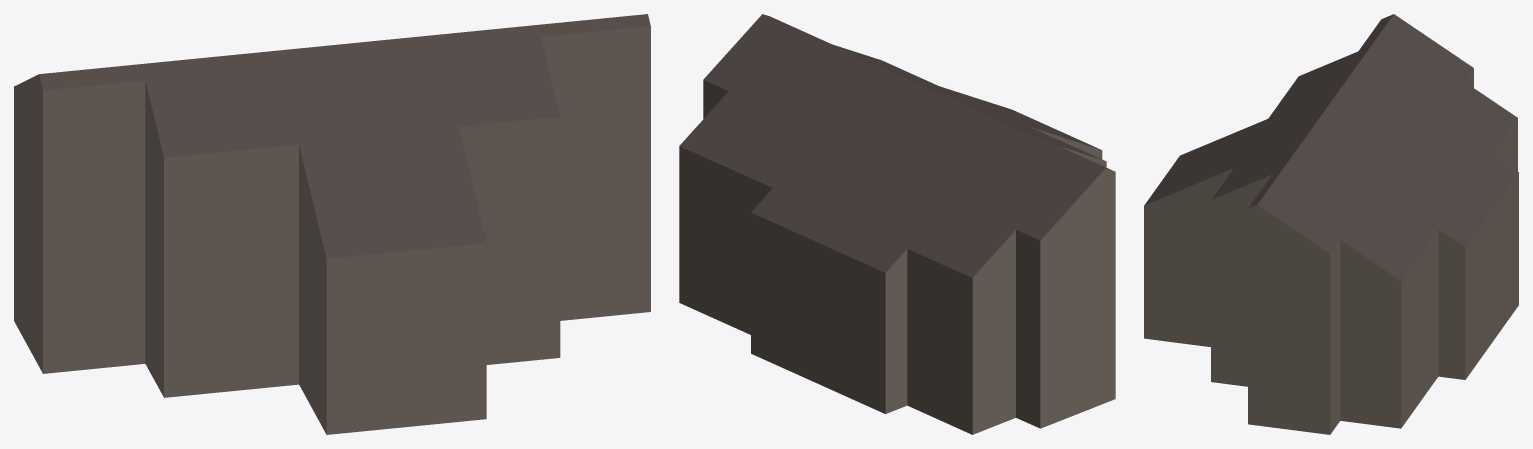
3 renders of one model, left to right at view 1: azimuth 30°, elevation 25°; view 2: azimuth 150°, elevation 25°; view 3: azimuth 270°, elevation 25°, orthographic. The views are drawn at different scales.
Parts seen in each view (by area): view 1: HP-w859488888; view 2: HP-w859488888; view 3: HP-w859488888.
Part boxes in pixels (<box>): HP-w859488888: <box>14,14,650,434</box>; HP-w859488888: <box>679,14,1115,434</box>; HP-w859488888: <box>1144,14,1518,434</box>.
Bounding box in the file's own units: 29.33 × 14.96 × 23.02.
